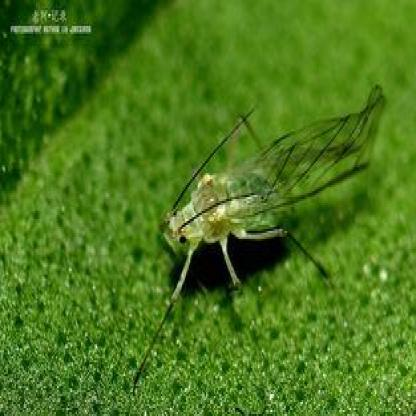aphid: (158, 73, 384, 347)
